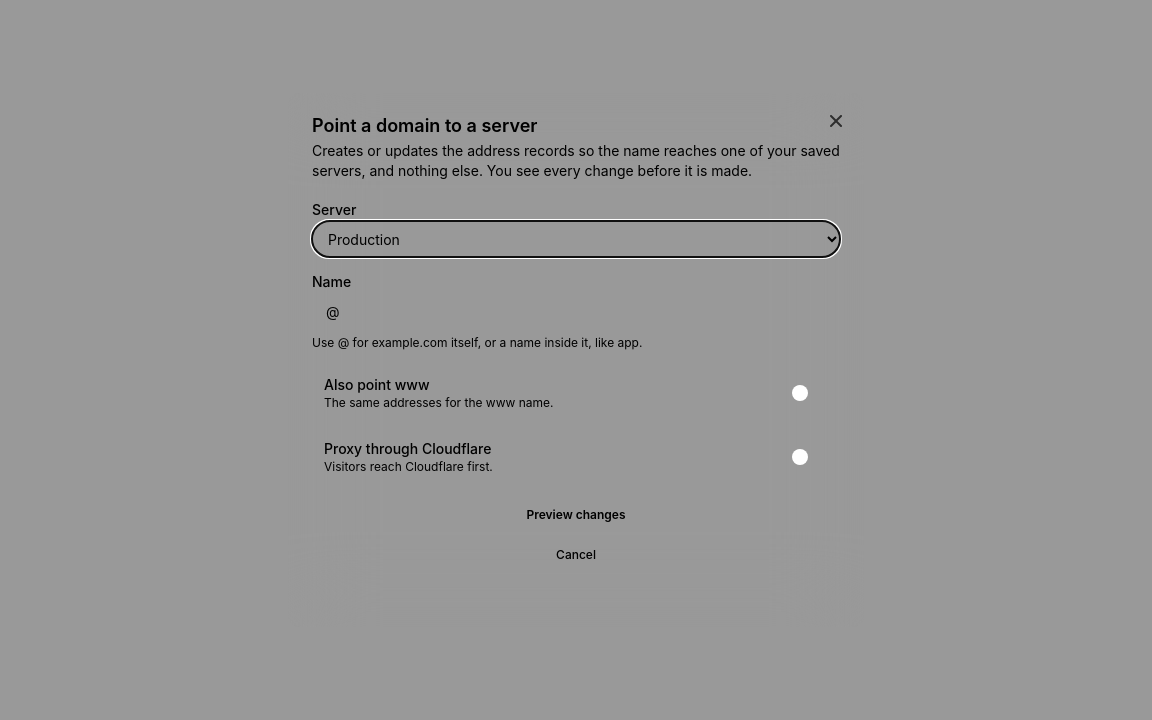
PointDomainDialog › shows why a preview could not be made
The width and height of the screenshot is (1152, 720).
Expected: the dropdown labelled "Server" is shown, [312, 221, 840, 257]
Click the button "Preview changes" at (576, 515), box [312, 499, 840, 531]
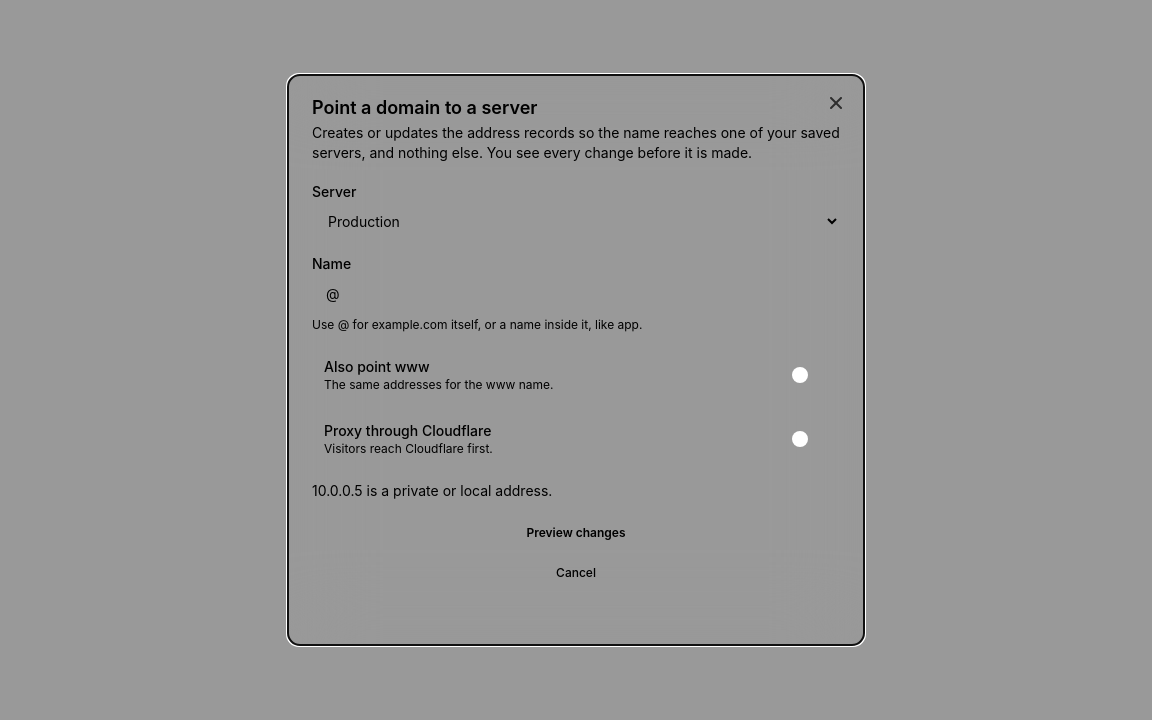
Result: the message reads "10.0.0.5 is a private or local address." at [312, 482, 552, 499]
